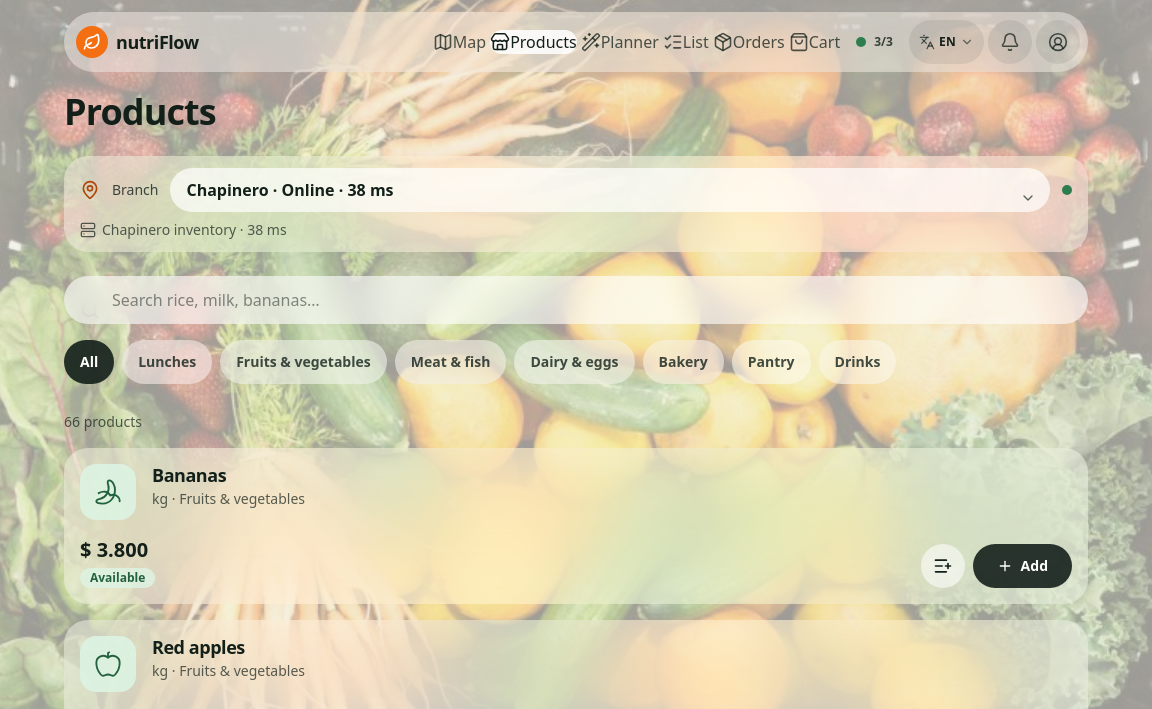
Test case: Browsing › searches ignoring accents and filters by category
This screenshot has width=1152, height=709.
Expected: the text "66 products" is shown, [64, 412, 142, 431]
In the search field named "Search products": (576, 300) [64, 276, 1088, 324], type "cafe"
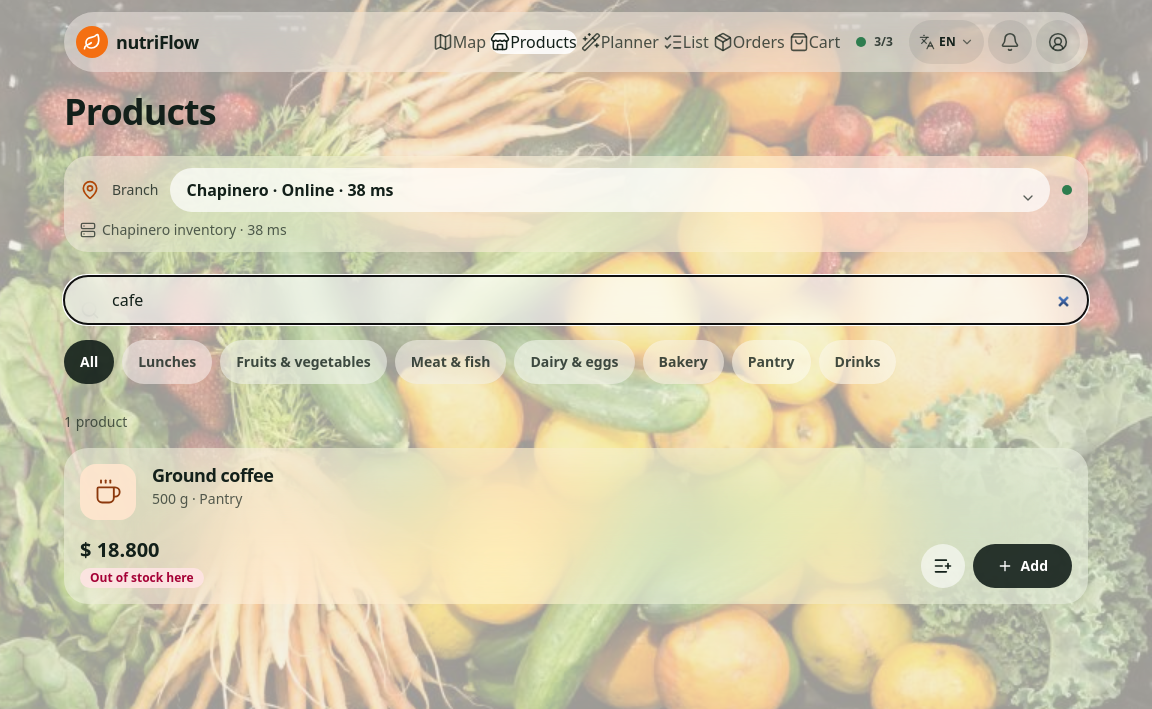
Expected: the link "Ground coffee" is shown, [152, 463, 274, 487]
Expected: the text "1 product" is shown, [64, 412, 127, 431]
The Spanish name works too while the interface is in English.
Replace the text in the search field named "Search products" with "LECHE ENTERA": (576, 300) [64, 276, 1088, 324]
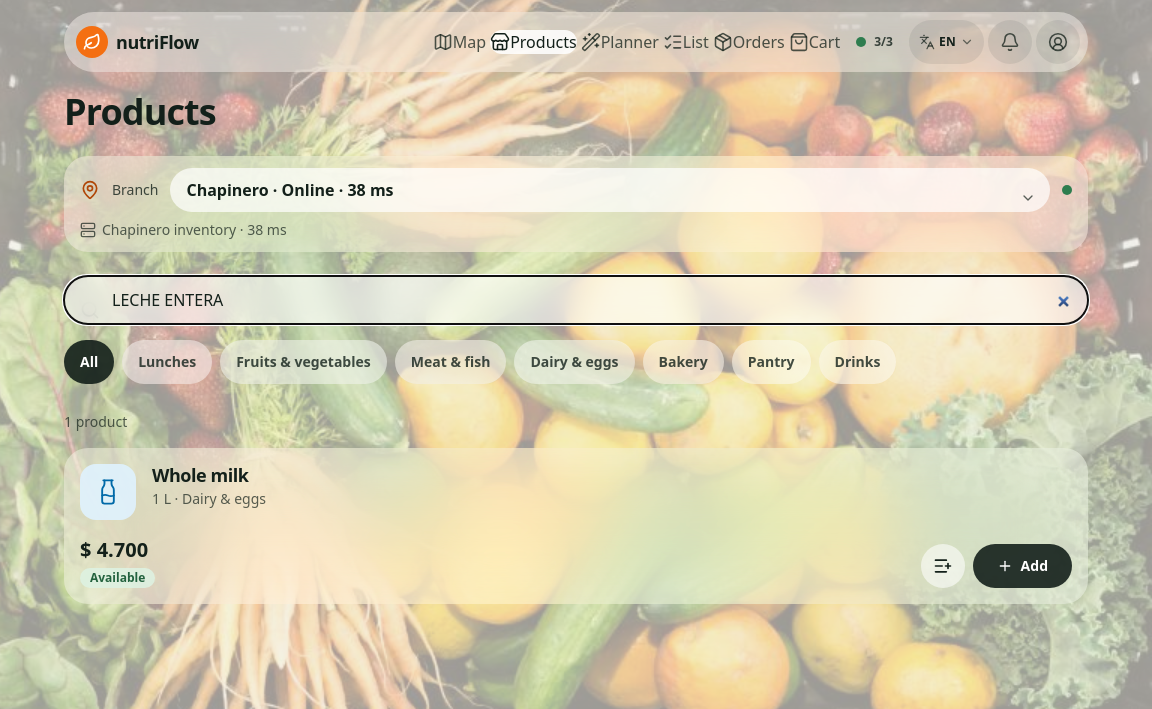
Expected: the text "1 product" is shown, [64, 412, 127, 431]
Expected: the link "Whole milk" is shown, [152, 463, 248, 487]
Replace the text in the search field named "Search products" with "pizza": (576, 300) [64, 276, 1088, 324]
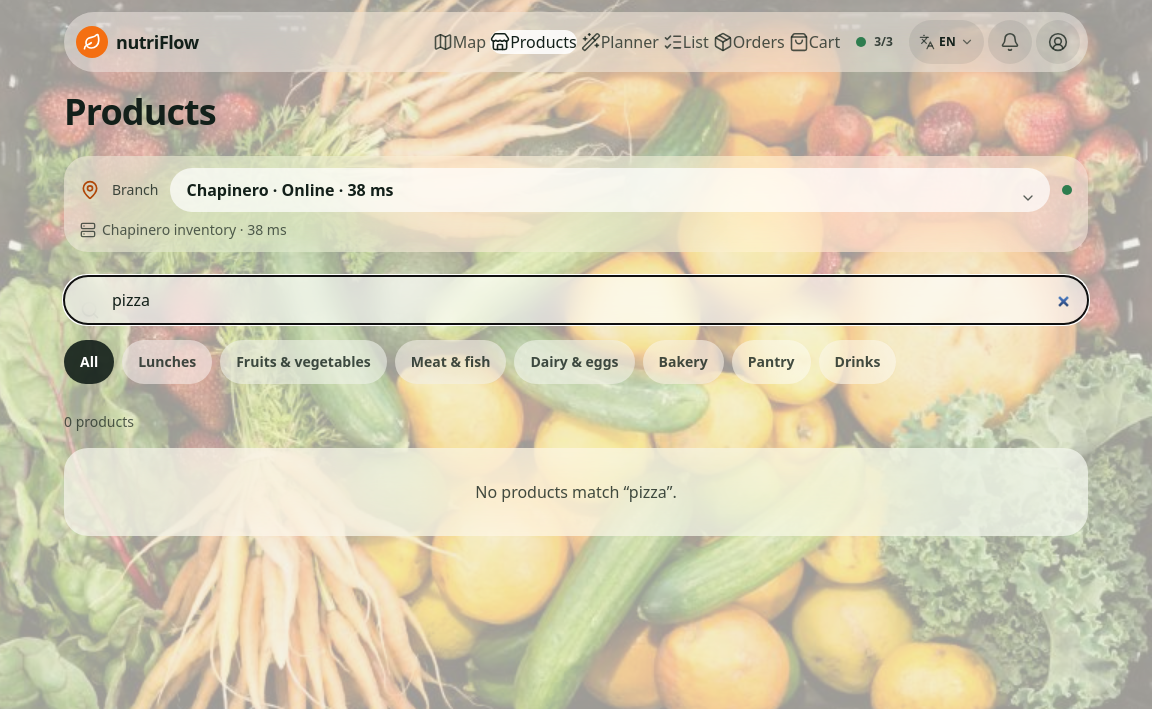
Expected: the text "No products match “pizza”." is shown, [64, 448, 1088, 536]
Clear the search field named "Search products": (576, 300) [64, 276, 1088, 324]
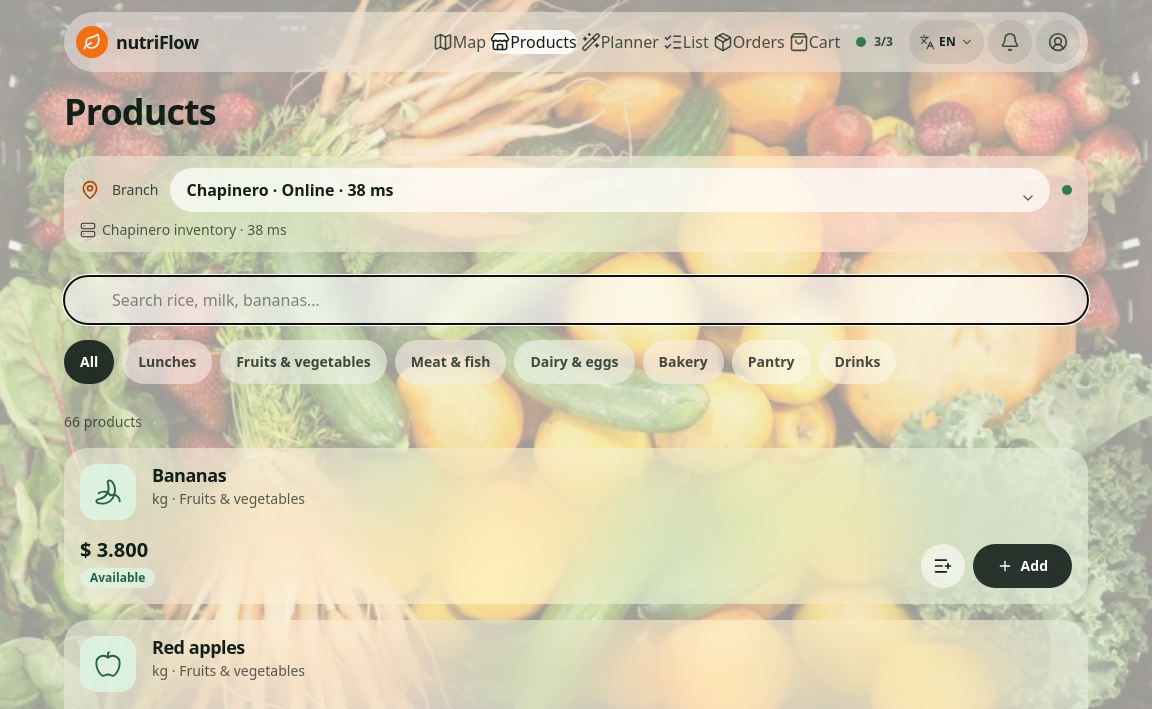
Click the button "Dairy & eggs": (574, 362) [514, 340, 635, 384]
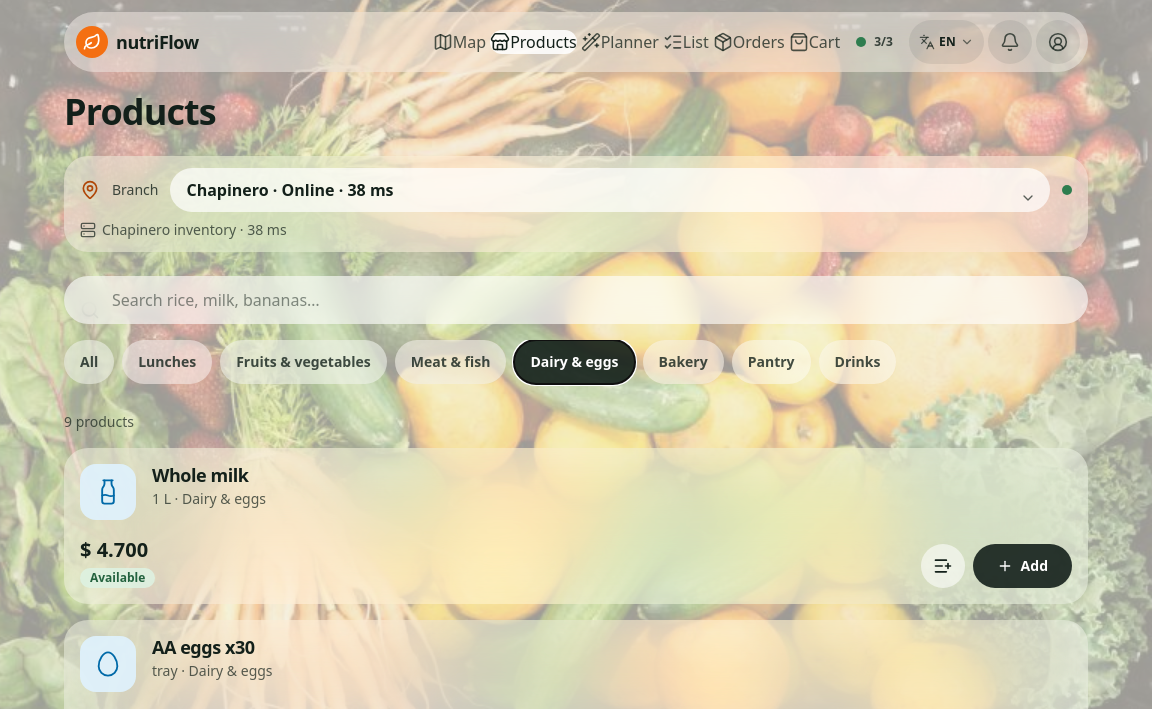
Expected: the text "9 products" is shown, [64, 412, 134, 431]
